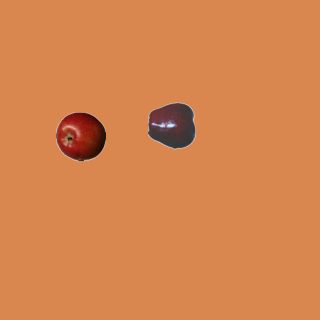Apple Braeburn: (55, 111, 105, 161)
Apple Red Delicious: (147, 100, 197, 150)
